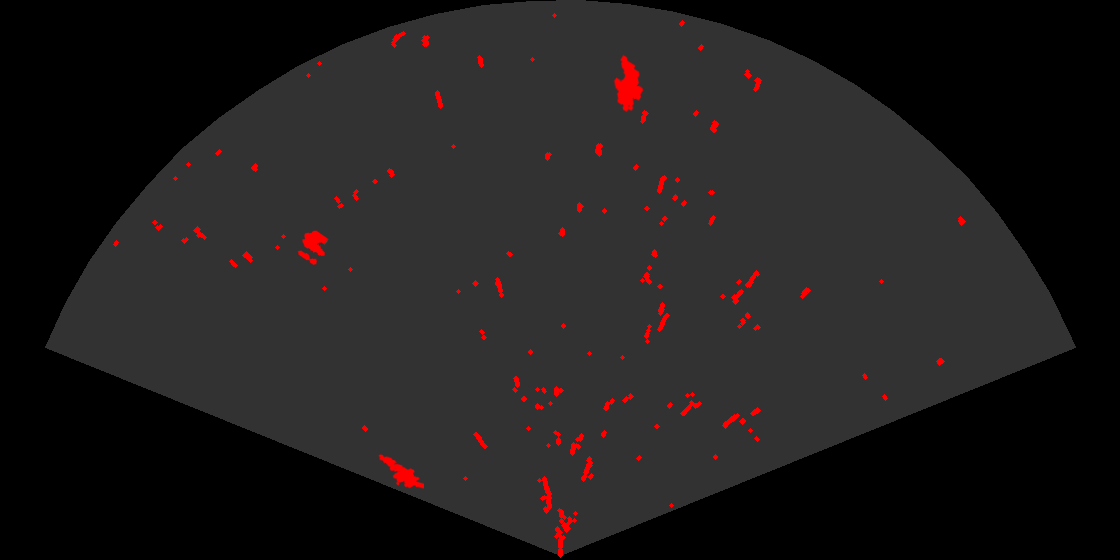AUV: (612, 53, 645, 114)
ball: (296, 229, 329, 267)
frogman: (377, 453, 424, 490)
